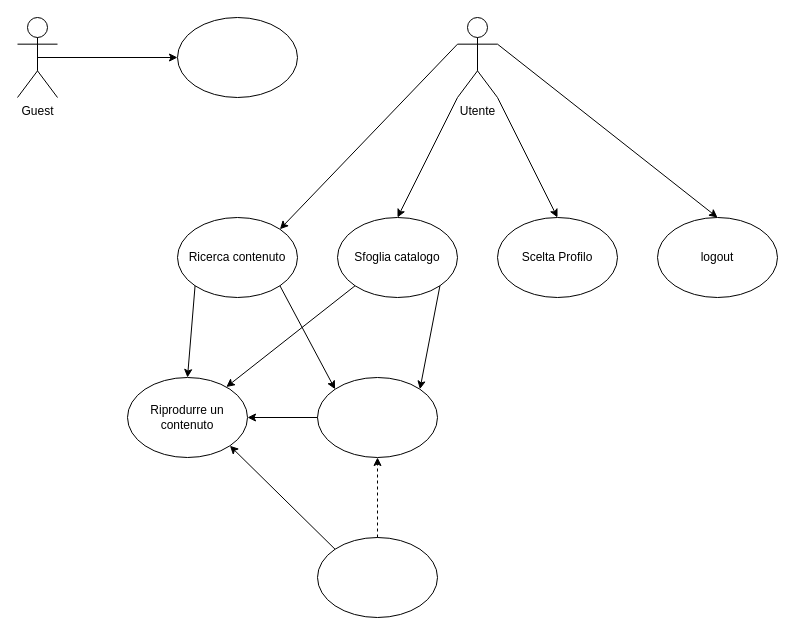
This 795x635 diagram has some shape labels left out. The centre of each missing label's shape, as x and y in pixels:
"Info contenuto" goes at (377,417).
"login" goes at (237,57).
"Vedere episodi serie" goes at (377,577).
